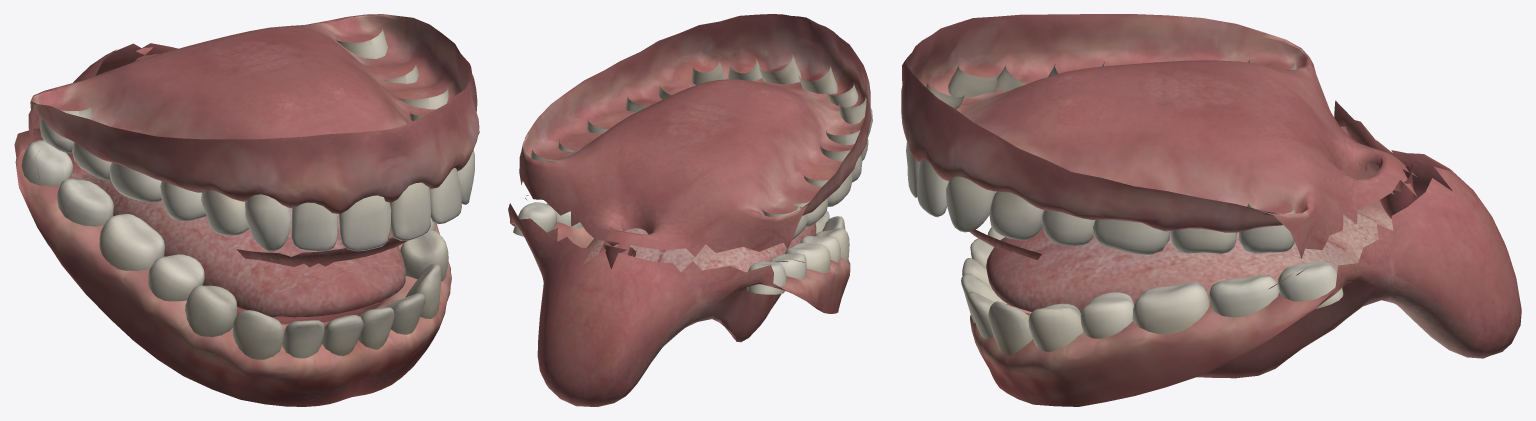
The model's file is mouth-realistic.glb.
3 renders of one model, left to right at view 1: azimuth 30°, elevation 25°; view 2: azimuth 150°, elevation 25°; view 3: azimuth 270°, elevation 25°, orthographic. The views are drawn at different scales.
Visible parts, largest first — view 1: gingiva_upper, gingiva_lower, tooth_46_enamel, tooth_11_enamel, tooth_44_enamel, tooth_47_enamel, tooth_45_enamel, tooth_13_enamel, tooth_43_enamel, tooth_12_enamel, tooth_21_enamel, tooth_48_enamel (+15 smaller); view 2: gingiva_upper, gingiva_lower, tooth_46_enamel, tooth_38_enamel, tooth_48_enamel, tooth_47_enamel, tooth_21_enamel, tooth_11_enamel, tooth_16_enamel, tooth_45_enamel, tooth_13_enamel, tooth_44_enamel (+6 smaller); view 3: gingiva_upper, gingiva_lower, tooth_36_enamel, tooth_37_enamel, tooth_38_enamel, tooth_26_enamel, tooth_34_enamel, tooth_24_enamel, tooth_23_enamel, tooth_35_enamel, tooth_33_enamel, tooth_25_enamel (+6 smaller).
Boxes of the visible parts, bbox=[...] form: gingiva_upper: bbox=[28, 14, 479, 267]; gingiva_lower: bbox=[14, 43, 451, 406]; tooth_46_enamel: bbox=[99, 214, 164, 270]; tooth_11_enamel: bbox=[338, 195, 391, 251]; tooth_44_enamel: bbox=[185, 285, 236, 336]; tooth_47_enamel: bbox=[57, 178, 113, 226]; tooth_45_enamel: bbox=[148, 254, 204, 301]; tooth_13_enamel: bbox=[245, 194, 291, 252]; tooth_43_enamel: bbox=[232, 310, 283, 359]; tooth_12_enamel: bbox=[291, 202, 337, 251]; tooth_21_enamel: bbox=[389, 182, 430, 240]; tooth_48_enamel: bbox=[21, 140, 73, 186]; gingiva_upper: bbox=[519, 14, 871, 262]; gingiva_lower: bbox=[508, 203, 850, 406]; tooth_46_enamel: bbox=[785, 242, 830, 273]; tooth_38_enamel: bbox=[513, 202, 556, 236]; tooth_48_enamel: bbox=[747, 261, 786, 294]; tooth_47_enamel: bbox=[769, 253, 806, 291]; tooth_21_enamel: bbox=[758, 54, 801, 84]; tooth_11_enamel: bbox=[799, 64, 837, 93]; tooth_16_enamel: bbox=[803, 172, 852, 206]; tooth_45_enamel: bbox=[800, 236, 840, 262]; tooth_13_enamel: bbox=[839, 97, 872, 136]; tooth_44_enamel: bbox=[815, 228, 849, 262]; gingiva_upper: bbox=[901, 14, 1416, 289]; gingiva_lower: bbox=[970, 100, 1521, 406]; tooth_36_enamel: bbox=[1132, 282, 1209, 334]; tooth_37_enamel: bbox=[1209, 275, 1279, 317]; tooth_38_enamel: bbox=[1278, 261, 1343, 308]; tooth_26_enamel: bbox=[1093, 219, 1170, 255]; tooth_34_enamel: bbox=[1028, 303, 1083, 351]; tooth_24_enamel: bbox=[989, 191, 1043, 240]; tooth_23_enamel: bbox=[946, 176, 995, 232]; tooth_35_enamel: bbox=[1080, 292, 1133, 338]; tooth_33_enamel: bbox=[988, 301, 1032, 355]; tooth_25_enamel: bbox=[1042, 210, 1095, 246].
Bounding box in the file's own units: 61.24 × 48.66 × 89.05.
Materials: 2 (2 with a texture image).
